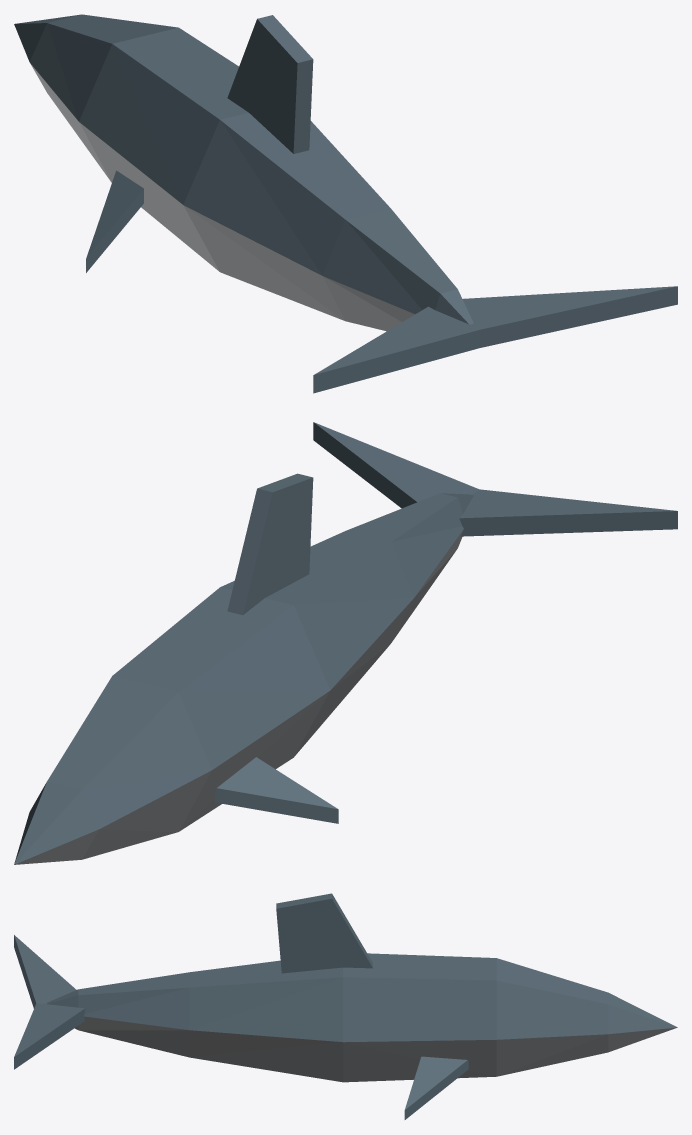
The model's file is dolphin.glb.
3 views of the same model, one above another, from view 1: azimuth 30°, elevation 25°; view 2: azimuth 150°, elevation 25°; view 3: azimuth 270°, elevation 25° (orthographic). The views are drawn at different scales.
Parts seen in each view (by area): view 1: dolphin; view 2: dolphin; view 3: dolphin.
Boxes of the visible parts, <box> form: dolphin: <box>14,14,677,393</box>; dolphin: <box>14,422,677,864</box>; dolphin: <box>14,893,677,1119</box>.
Bounding box in the file's own units: 1.04 × 0.72 × 2.38.
